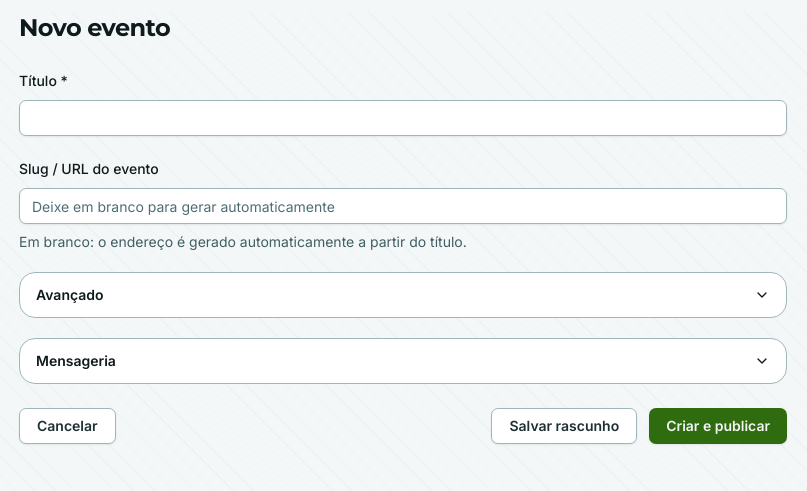
Test case: Novo evento — slug › barra slug inválido no cliente
The image size is (807, 491).
Type "Qualquer" into the field labelled "Título *" at (403, 118), box x1=19 y1=100 x2=787 y2=136
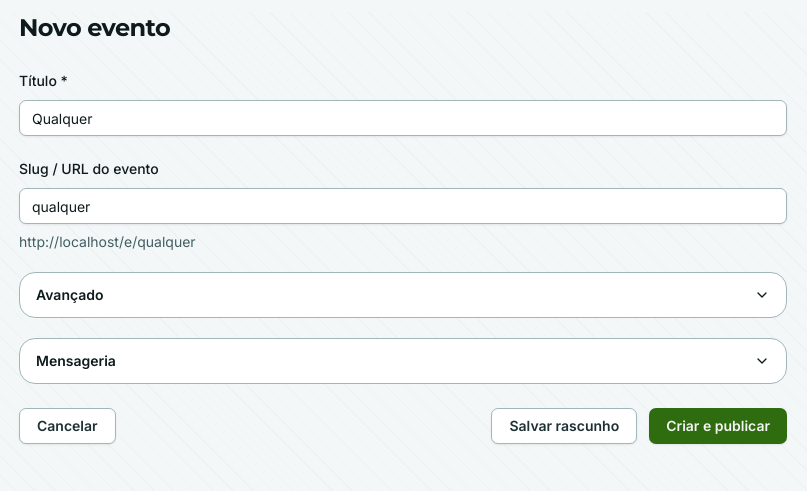
Replace the text in the field labelled "Slug / URL do evento" with "ab" at (403, 206), box x1=19 y1=188 x2=787 y2=224
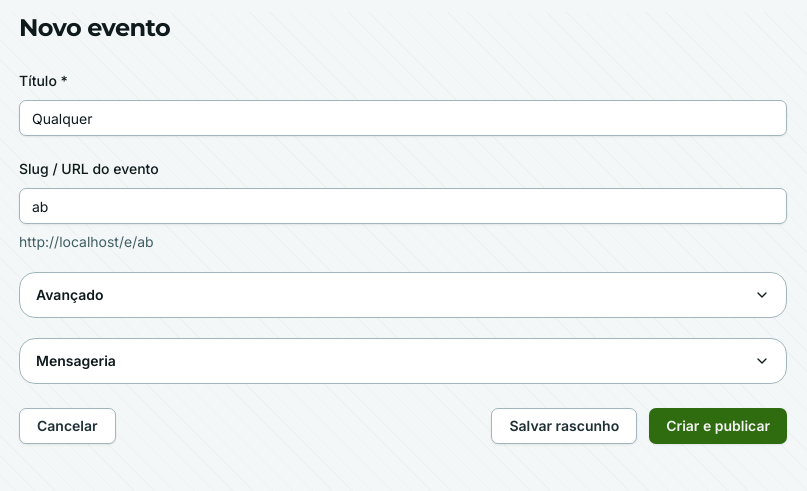
Click the button "Salvar rascunho" at (564, 426), box x1=492 y1=408 x2=637 y2=444
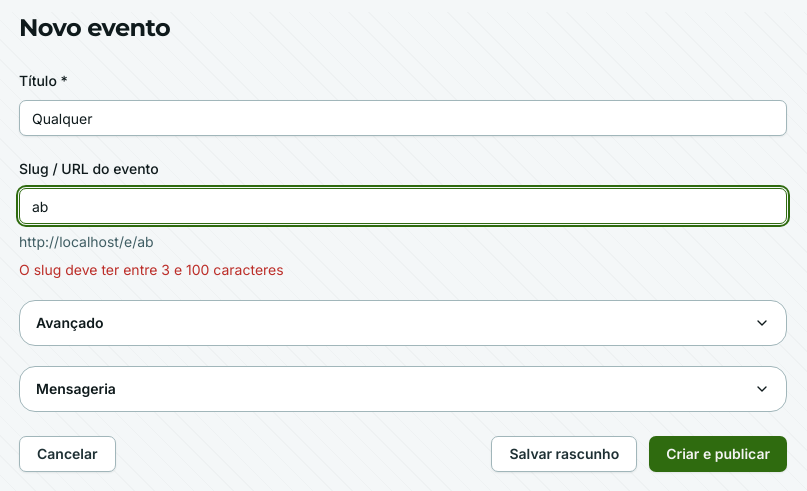
Expected: the text "O slug deve ter entre 3 e 100 caracteres" is shown, x1=19 y1=261 x2=284 y2=278
